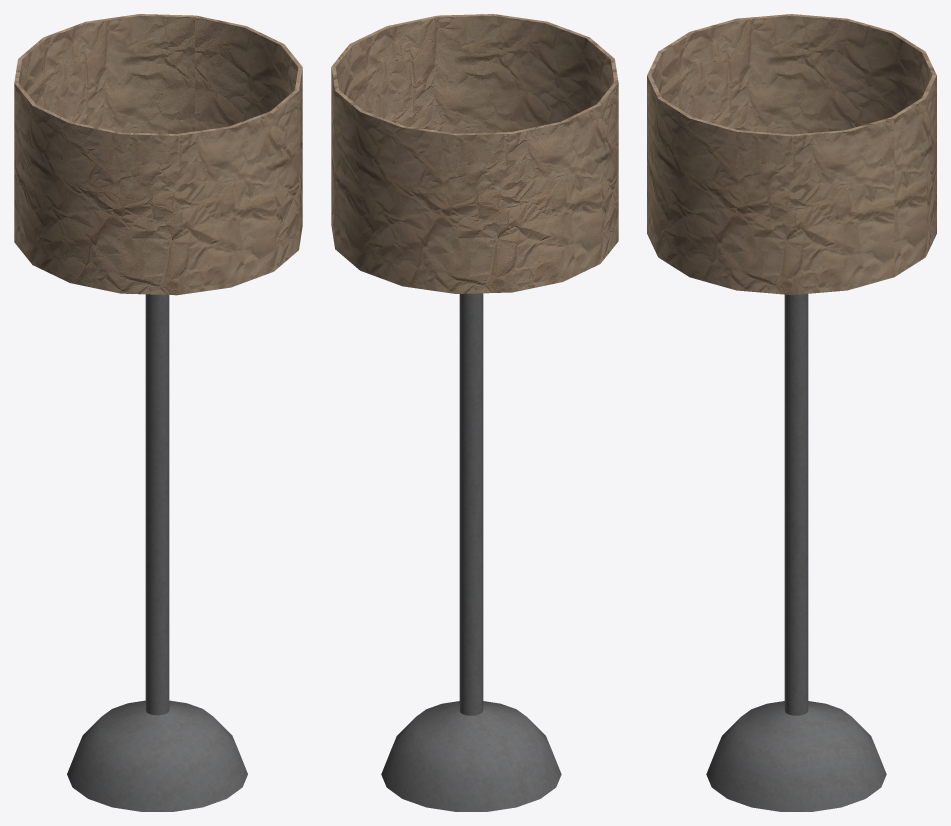
Rendered from Lamp-tall.FBX.
The picture shows the model from 3 angles, left to right: view 1: azimuth 30°, elevation 25°; view 2: azimuth 150°, elevation 25°; view 3: azimuth 270°, elevation 25°; orthographic projection.
Visible parts, largest first — view 1: Sphere001; view 2: Sphere001; view 3: Sphere001.
Part boxes in pixels (bbox=[...]): Sphere001: bbox=[14, 14, 302, 811]; Sphere001: bbox=[331, 14, 618, 811]; Sphere001: bbox=[647, 14, 936, 811].
Bounding box in the file's own units: 8.99 × 23.92 × 8.99.
2 materials, 2 textured.
